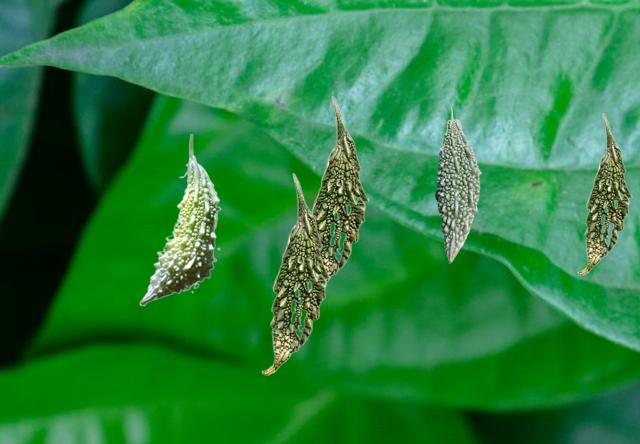ampalaya: (139, 134, 220, 305), (261, 172, 329, 374), (311, 95, 368, 281), (577, 112, 631, 274), (435, 105, 480, 262)
